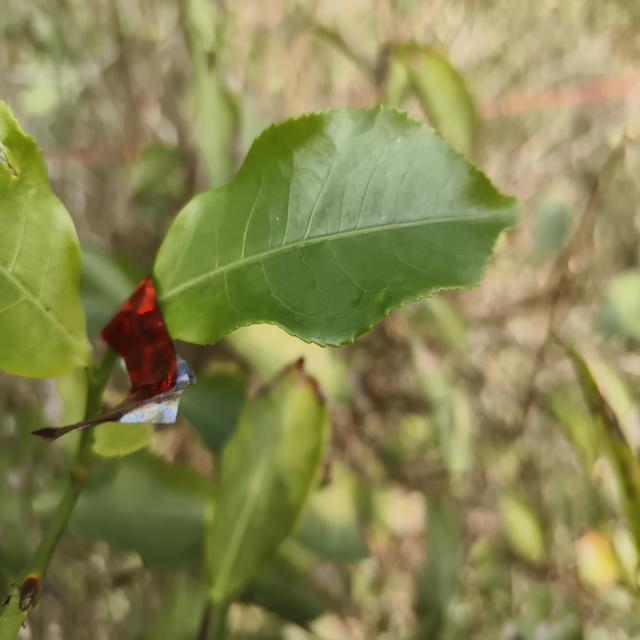Leaf: (154, 107, 522, 346), (206, 364, 328, 604), (0, 101, 91, 377), (69, 450, 207, 569), (567, 346, 640, 550), (187, 0, 239, 188), (396, 46, 478, 159), (178, 371, 245, 454)
